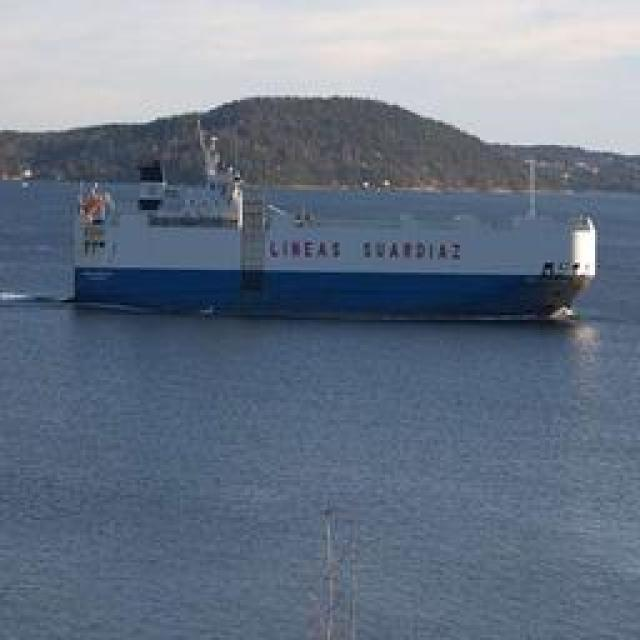ship2: (67, 112, 601, 329)
